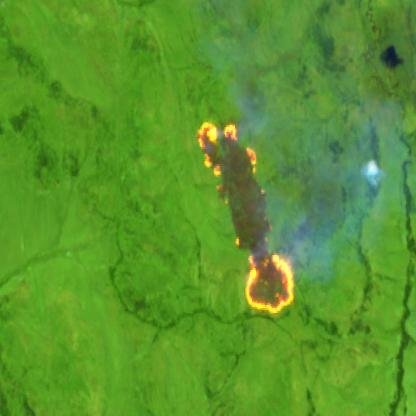fire: (195, 116, 300, 321)
